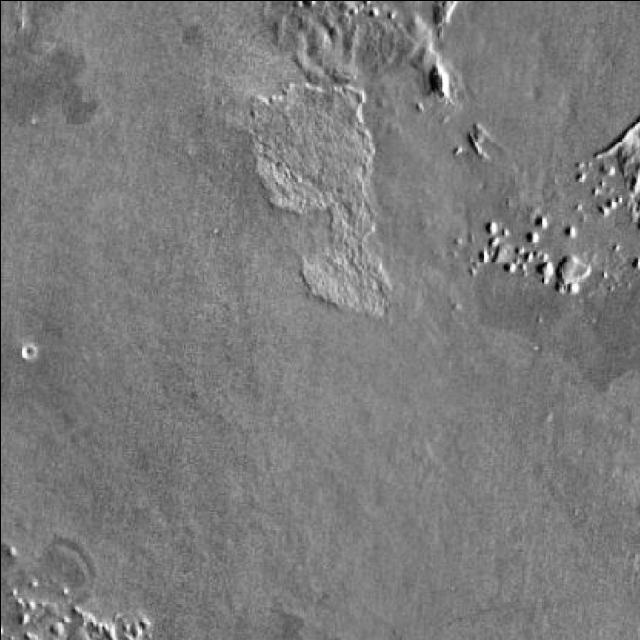crater: (420, 0, 640, 163)
